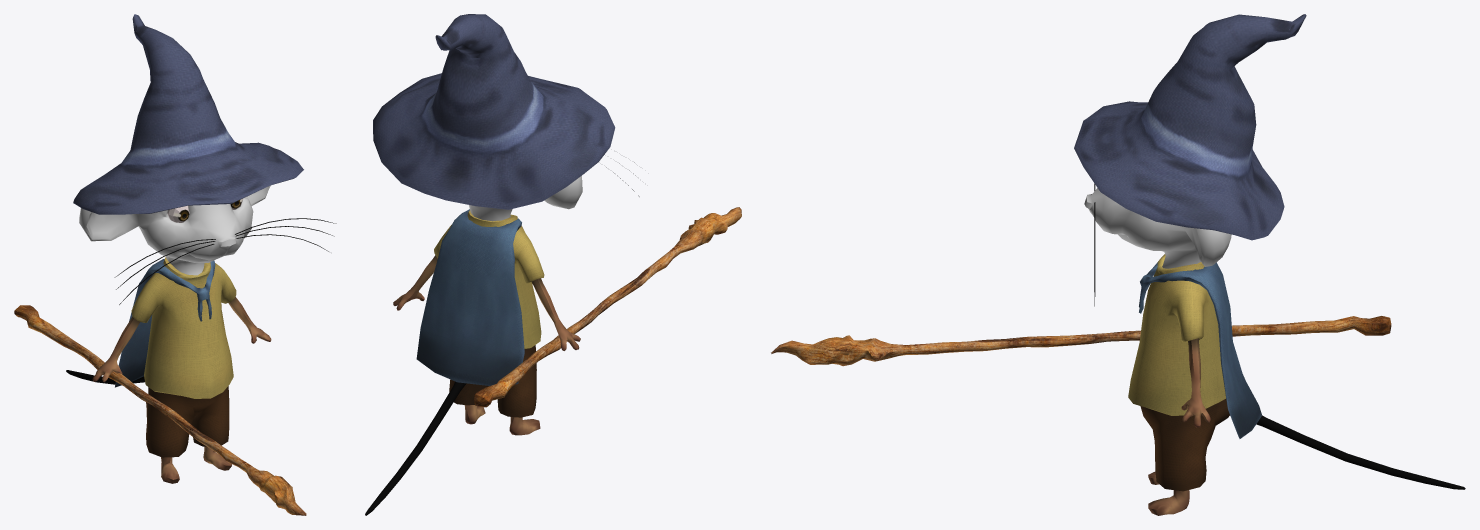
File: Hazel_01.gltf
3 views of the same model, side by side, from view 1: azimuth 30°, elevation 25°; view 2: azimuth 150°, elevation 25°; view 3: azimuth 270°, elevation 25° (orthographic). The views are drawn at different scales.
Visible parts, largest first — view 1: node-0; view 2: node-0; view 3: node-0.
Boxes of the visible parts, x1=… form: node-0: x1=14, y1=14, x2=336, y2=515; node-0: x1=365, y1=14, x2=741, y2=515; node-0: x1=771, y1=14, x2=1465, y2=515.
Bounding box in the file's own units: 17.86 × 31.88 × 41.54.
